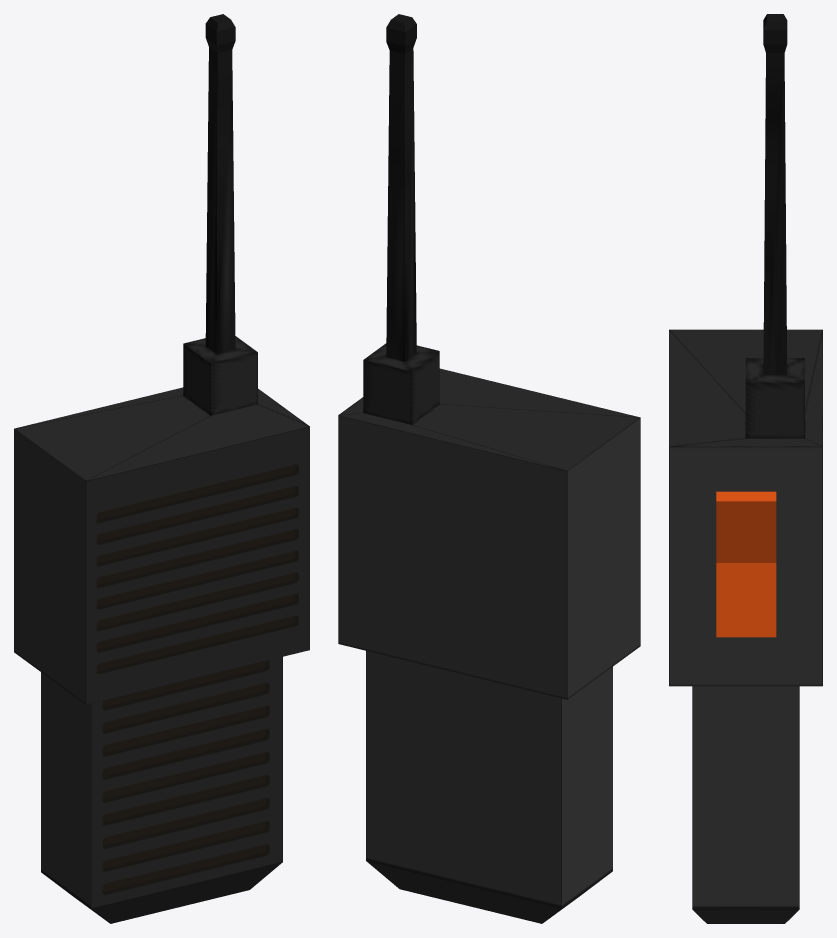
Rendered from mod_tool_radio.fbx.
The picture shows the model from 3 angles, left to right: view 1: azimuth 30°, elevation 25°; view 2: azimuth 150°, elevation 25°; view 3: azimuth 270°, elevation 25°; orthographic projection. The views are drawn at different scales.
Parts seen in each view (by area): view 1: mesh_radio; view 2: mesh_radio; view 3: mesh_radio, mesh_radio_switch.
Boxes of the visible parts, <box> form: mesh_radio: <box>14,14,309,923</box>; mesh_radio: <box>338,14,640,923</box>; mesh_radio: <box>669,14,822,923</box>; mesh_radio_switch: <box>716,491,776,637</box>.
Bounding box in the file's own units: 199 × 667 × 102.
